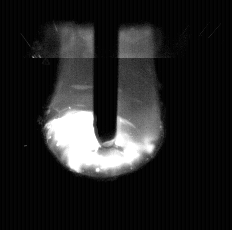arame: (94, 0, 119, 146)
poca: (44, 0, 163, 230)
